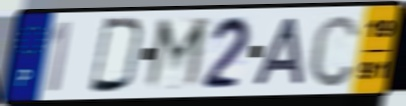1: (47, 18, 73, 94)
2: (196, 13, 255, 94)
A: (251, 16, 307, 88)
C: (307, 11, 362, 90)
D: (86, 16, 148, 96)
M: (140, 15, 212, 94)
